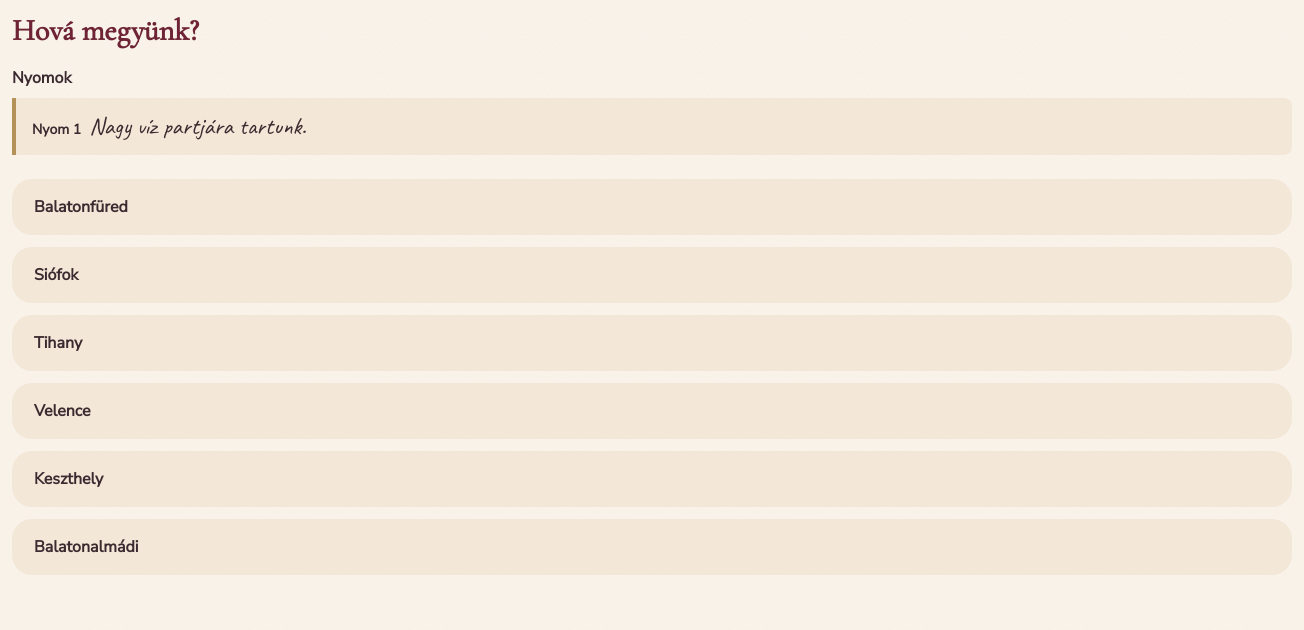
Test: HintGuess (drive1) › allows one guess per hint, then a wrong message and wait
The image size is (1304, 630).
Expected: the list item "Nagy víz partjára tartunk." is shown, [89,110,306,140]
Click the button "Tihany" at (58, 342), box [12,314,1292,370]
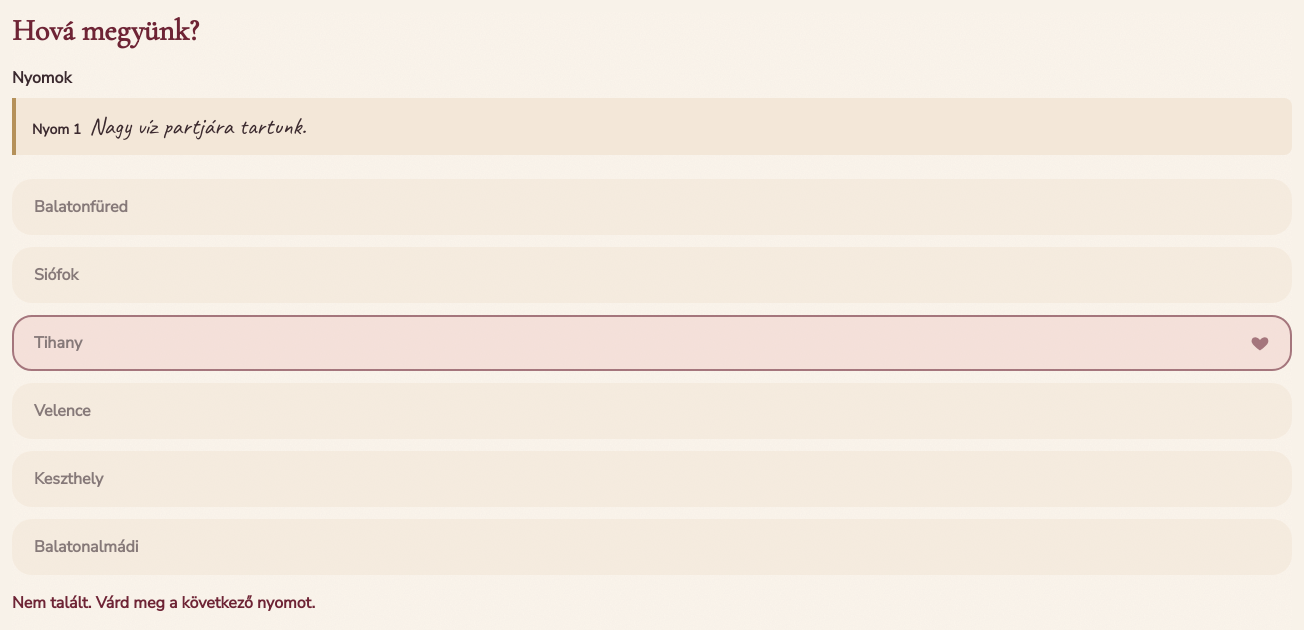
Now the text "Nem talált. Várd meg a következő nyomot." is shown, box [12,592,315,614]
Now the button "Velence" is disabled, box [12,382,1292,438]
